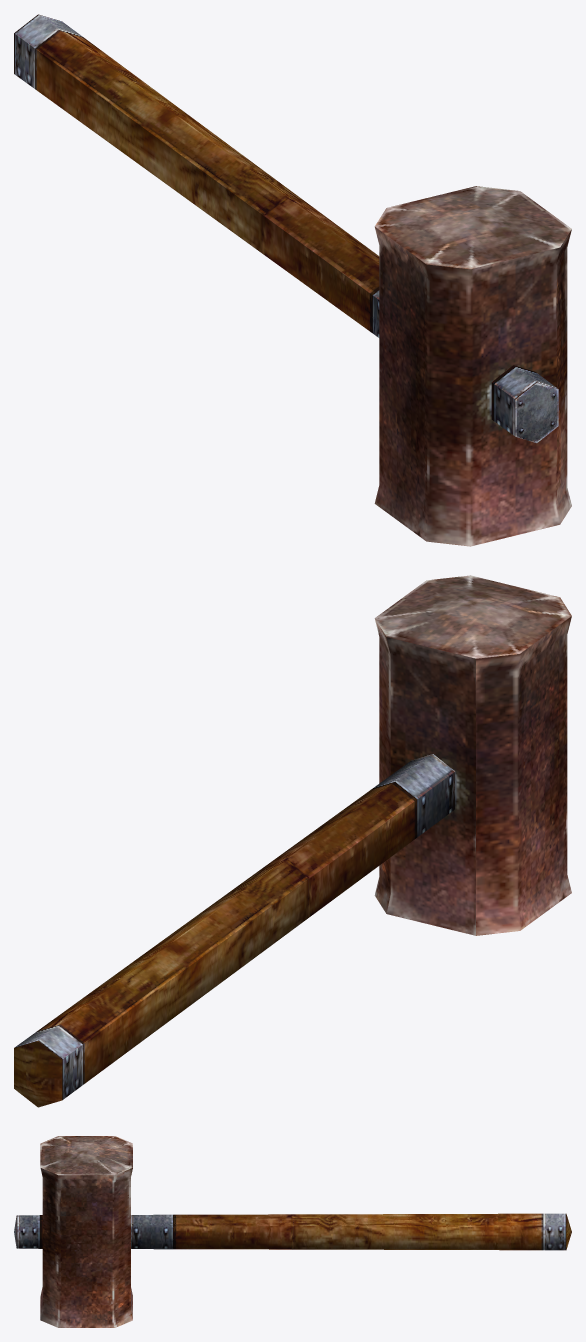
File: waj.glb
The picture shows the model from 3 angles, top to bottom: view 1: azimuth 30°, elevation 25°; view 2: azimuth 150°, elevation 25°; view 3: azimuth 270°, elevation 25°; orthographic projection. The views are drawn at different scales.
Visible parts, largest first — view 1: waj-col; view 2: waj-col; view 3: waj-col.
Part boxes in pixels (x1,y1,x2,y2): waj-col: (14,14,571,546); waj-col: (14,575,571,1107); waj-col: (14,1136,571,1327).
Size of the model in its own units: 0.1435 by 0.28 by 0.8644.
1 material, 1 textured.
